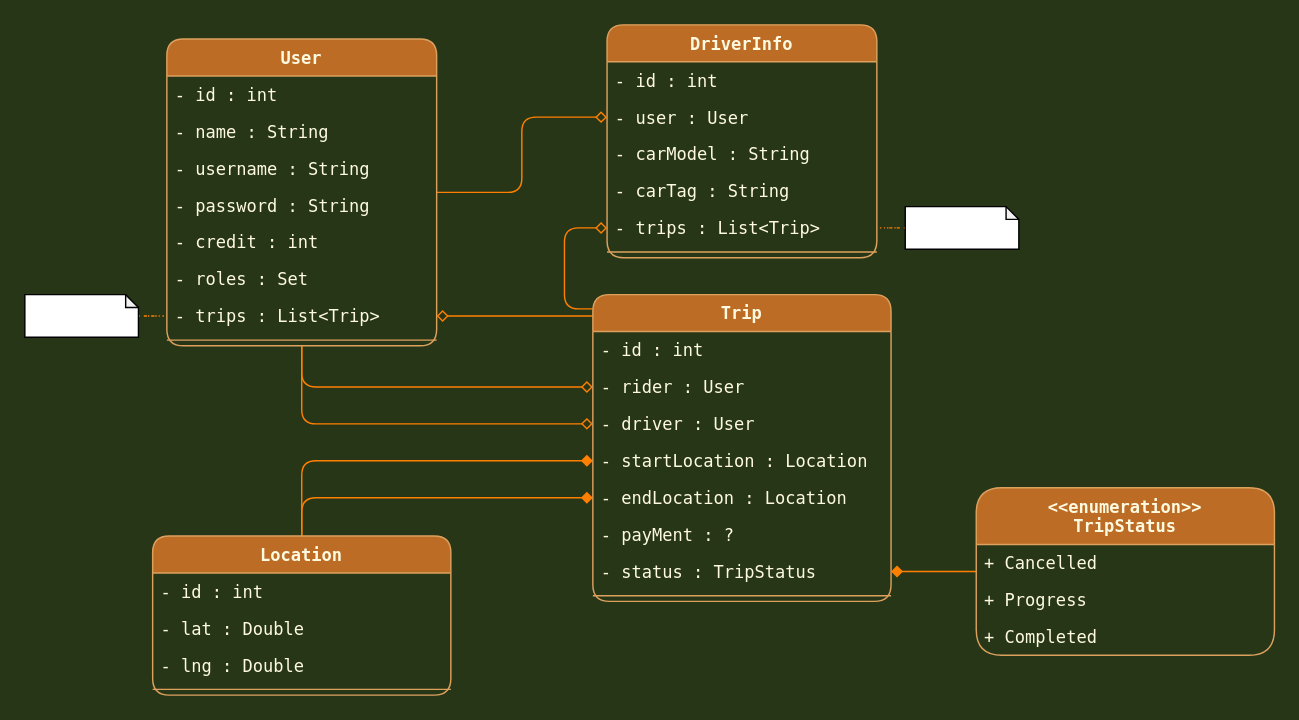
Image size: 1299x720. Some labels were removed from this diagram. Each missing label, with the centre of its shape:
Drive trips: the point at 961,227
Ride trips: the point at 80,315
